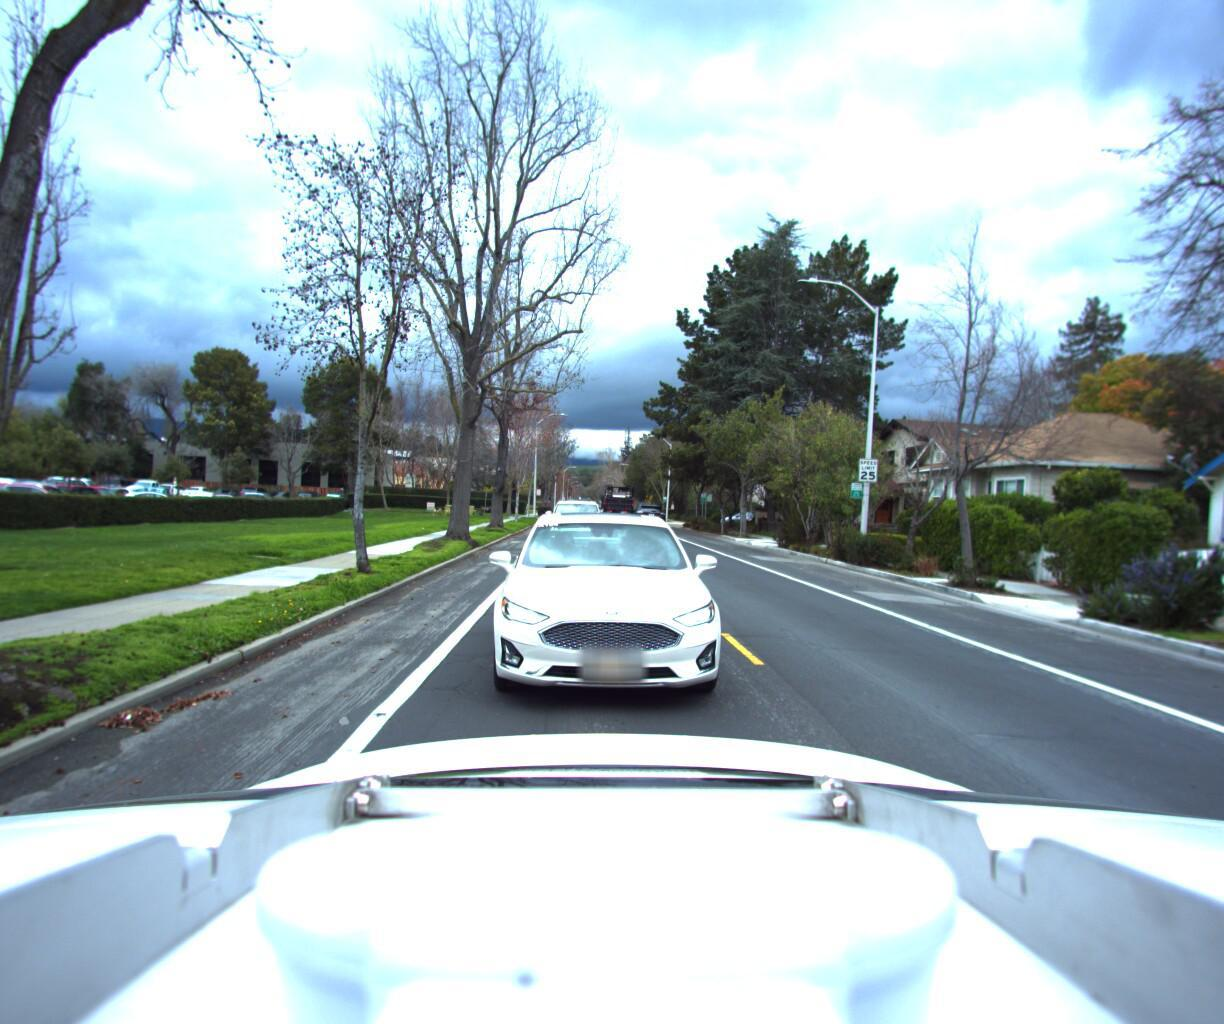car: (477, 511, 749, 738), (548, 500, 607, 548), (630, 504, 667, 533)
truck: (599, 485, 635, 524)
